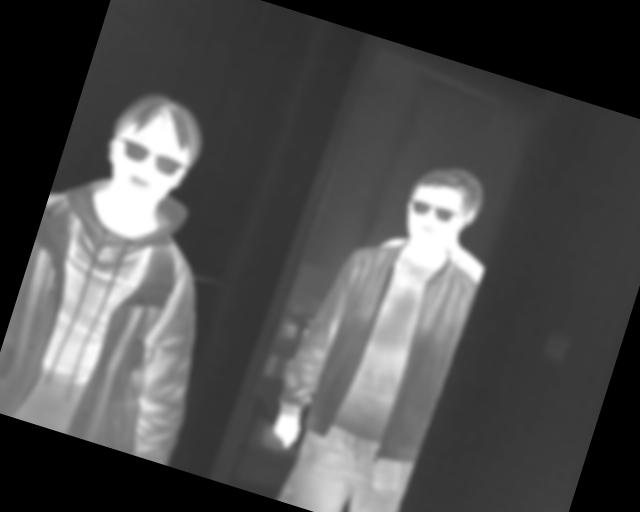face: (92, 83, 211, 218), (394, 159, 483, 260)
